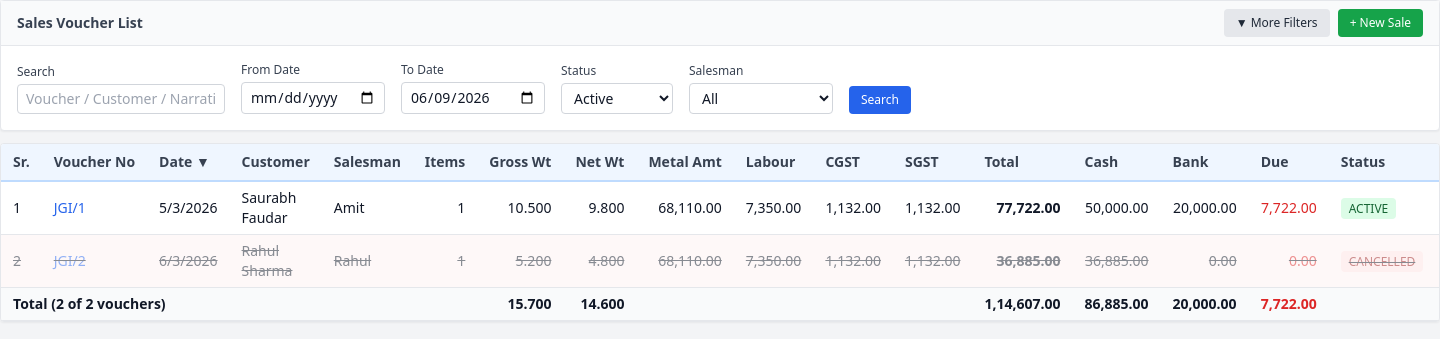
Test: SalesEntryList filter count & clear › clear filters resets all filters
This screenshot has width=1440, height=339.
Set a filter
Type "test" into the field with test id "search-input" at (121, 99), box [17,84,225,114]
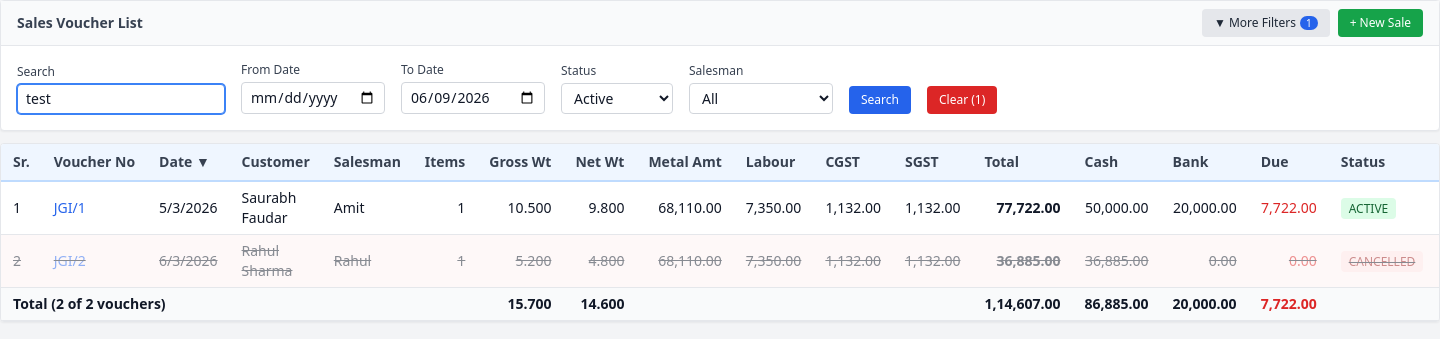
Change status
Select "Cancelled" in the dropdown with test id "status-filter" at (617, 98), box [561,83,673,114]
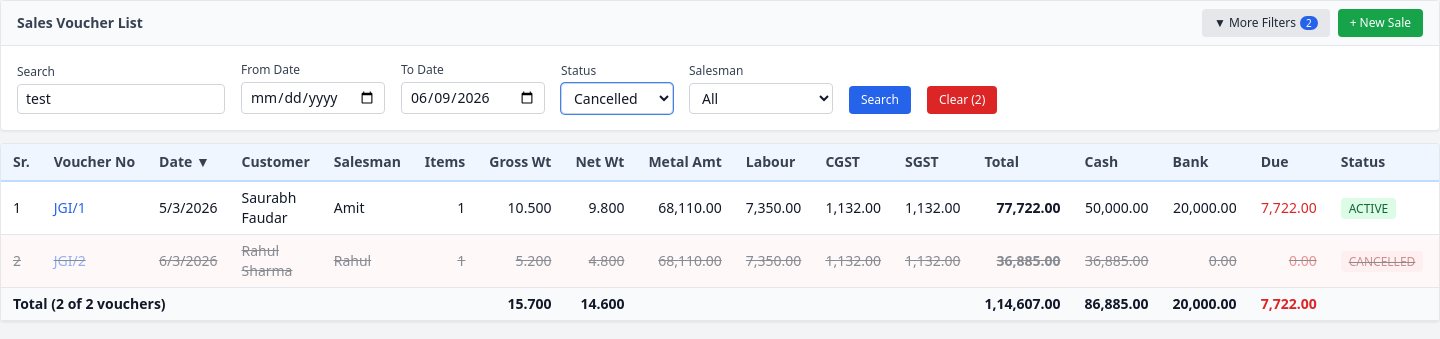
Check: the button with test id "clear-filters" is shown
Click the button with test id "clear-filters" at (962, 100), box [927,86,997,114]
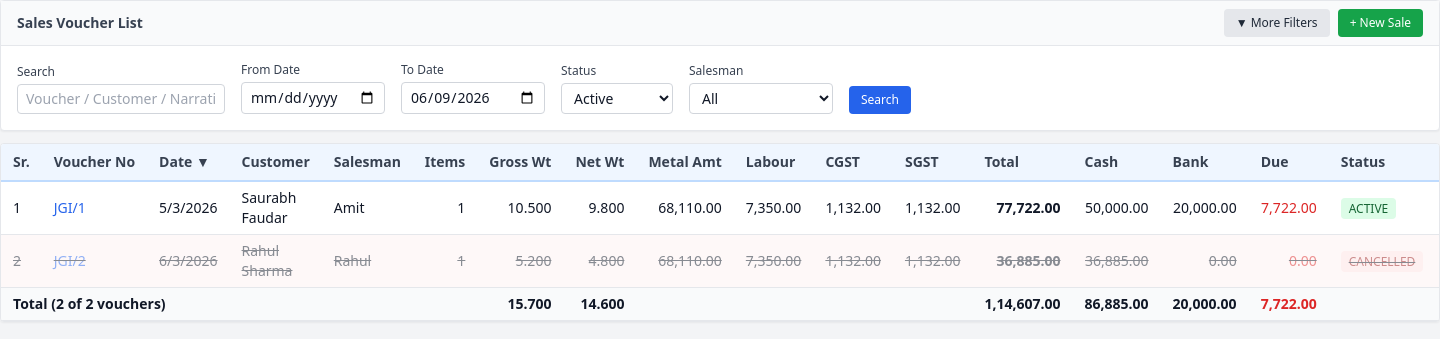
Check: the field with test id "search-input" is empty, box [17,84,225,114]
